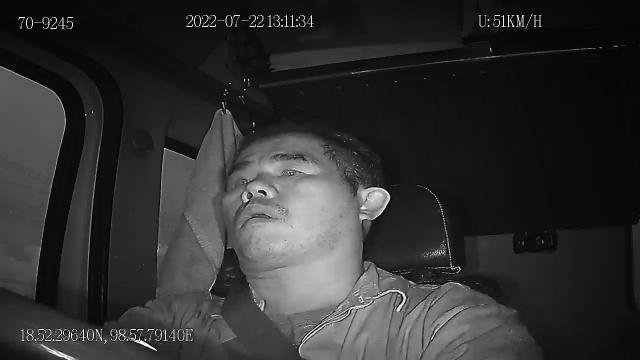SafeDriving: (270, 154, 316, 182)
Seatbelt: (219, 280, 305, 360)
